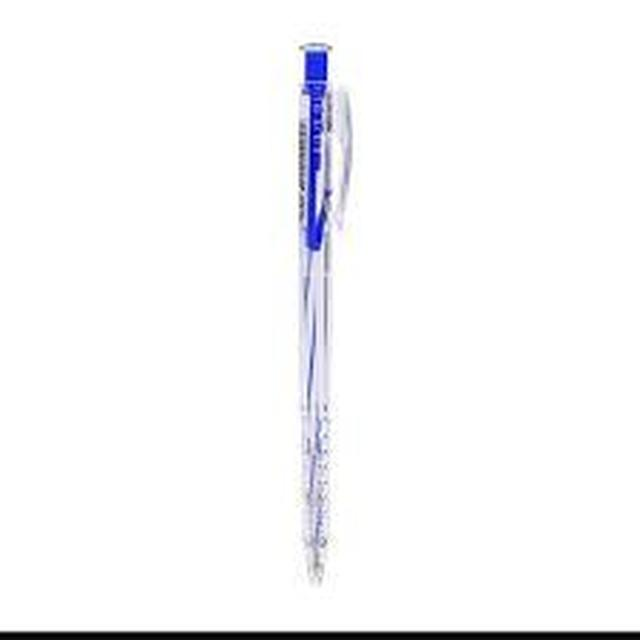pen: (287, 40, 349, 588)
